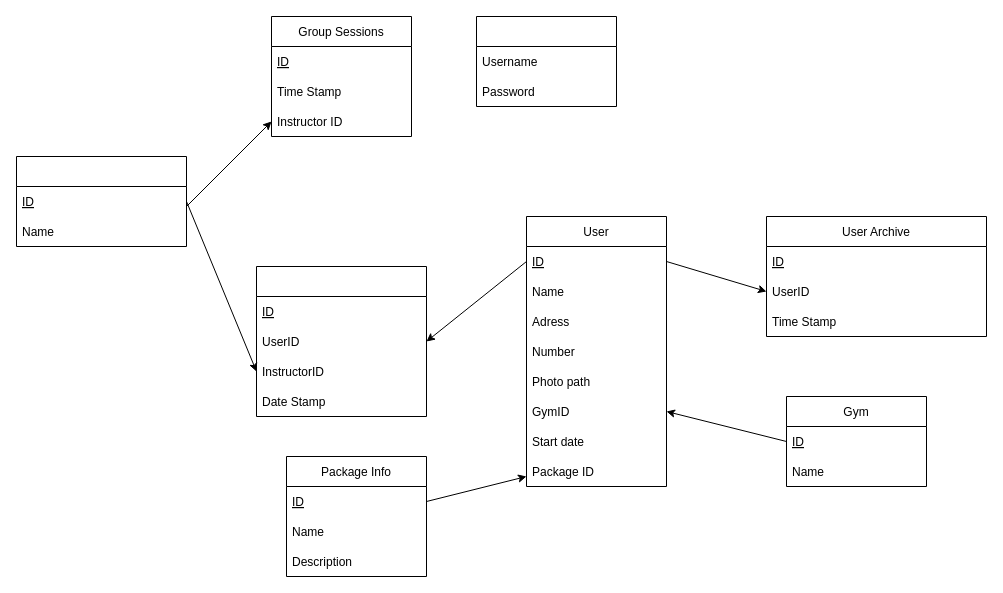
The diagram is 1003 pixels wide and 593 high, and some of its shapes have lost their labels. Here are the shapes that lost their labels. From the top down, the box of each, then its label:
(476, 16, 616, 106): Admin
(16, 156, 186, 246): Instructor
(256, 266, 426, 416): Private Sessions
